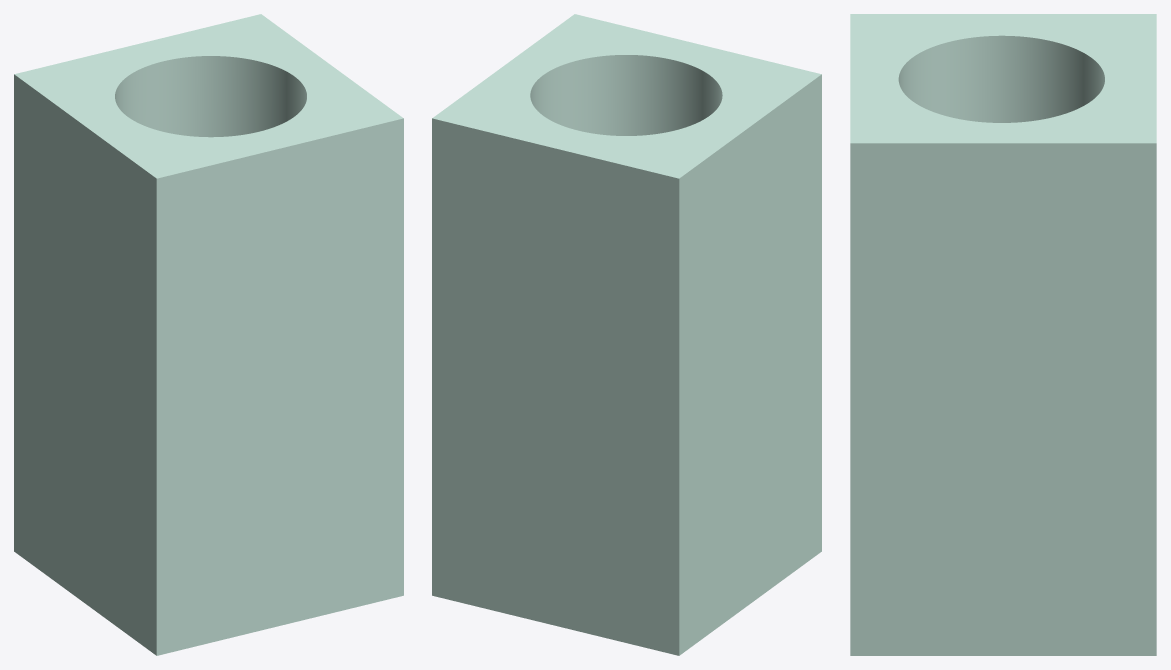
3 views of the same model, side by side, from view 1: azimuth 30°, elevation 25°; view 2: azimuth 150°, elevation 25°; view 3: azimuth 270°, elevation 25° (orthographic). The views are drawn at different scales.
Visible parts, largest first — view 1: Renderer Node; view 2: Renderer Node; view 3: Renderer Node.
Part boxes in pixels (<box>): Renderer Node: <box>14,14,403,655</box>; Renderer Node: <box>432,14,821,655</box>; Renderer Node: <box>850,14,1156,655</box>.
Bounding box in the file's own units: 0.4063 × 0.75 × 0.4063.
